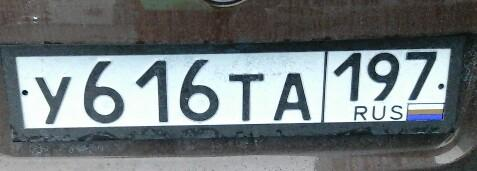license-plateSW: (11, 49, 453, 131)
